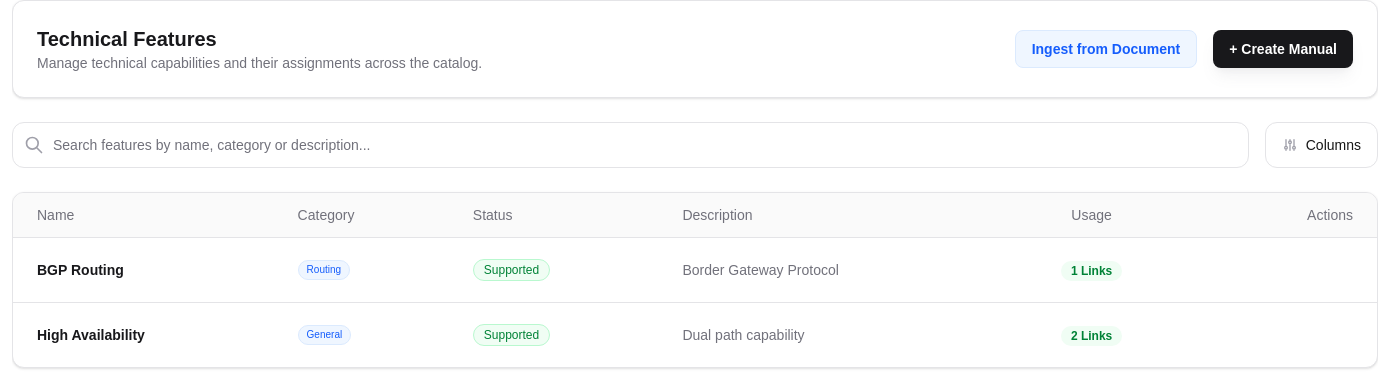
Test: FeatureList Improvements › shows granular service option links
Click the button "2 Links" at (1092, 336), box [1061, 326, 1122, 346]
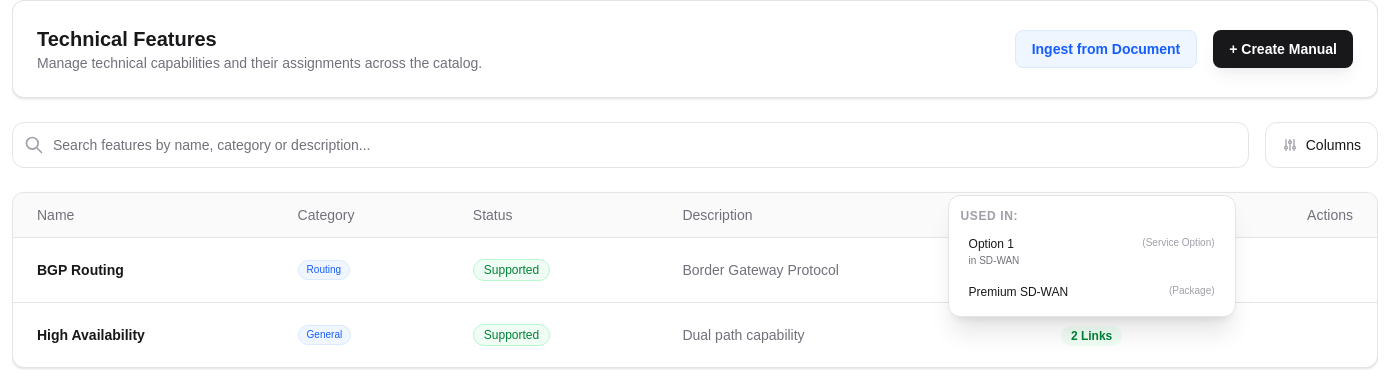
Expected: the text "Option 1" is shown, [969, 236, 1014, 252]
Expected: the text "(Service Option)" is shown, [1142, 236, 1215, 250]
Expected: the text "in SD-WAN" is shown, [969, 255, 1019, 266]
